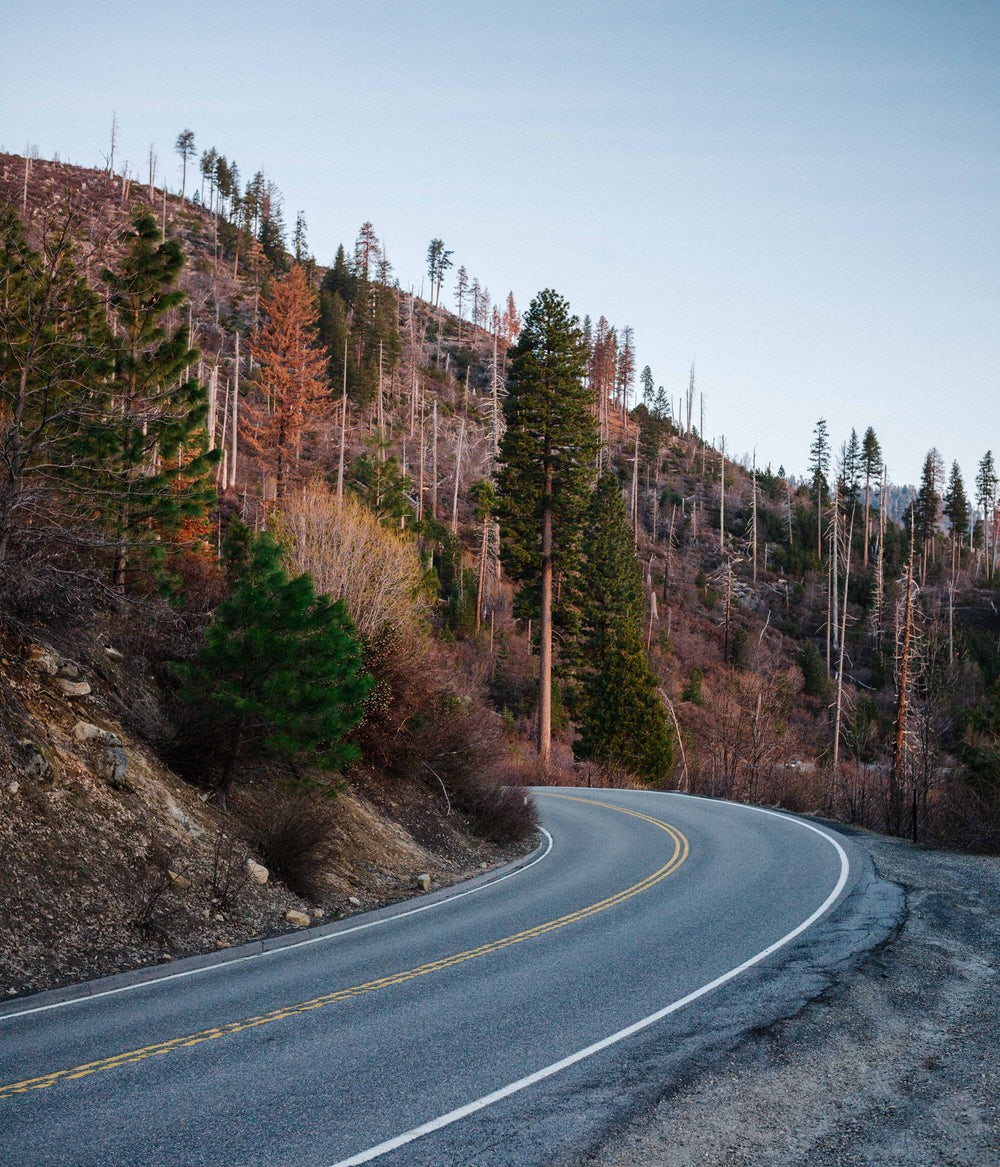leftTrun: (436, 753, 883, 1050)
